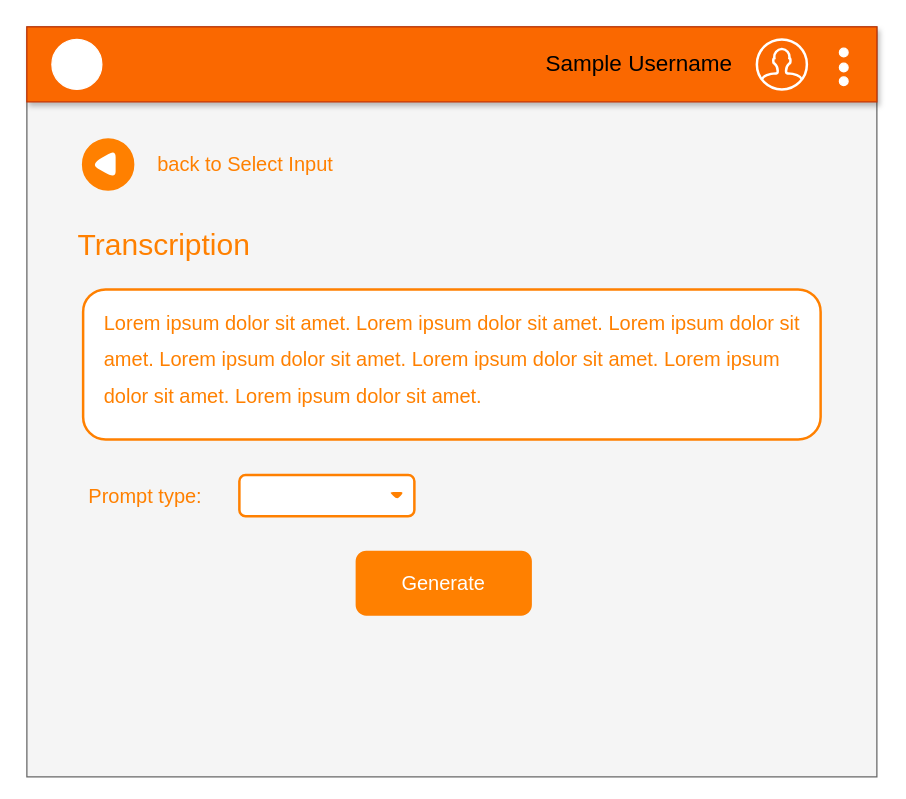
Some shapes in this 906 by 799 pixel diagram are drawn without their labels. The centre of each missing label's shape, as x and y in pixels:
Documentation: pixel 326 495
our logo: pixel 76 63
